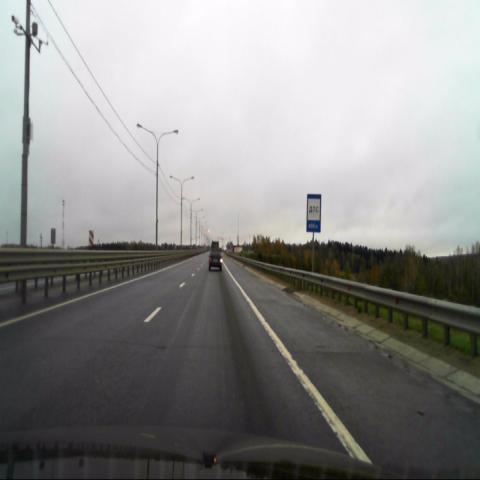7_12: (306, 193, 320, 232)
